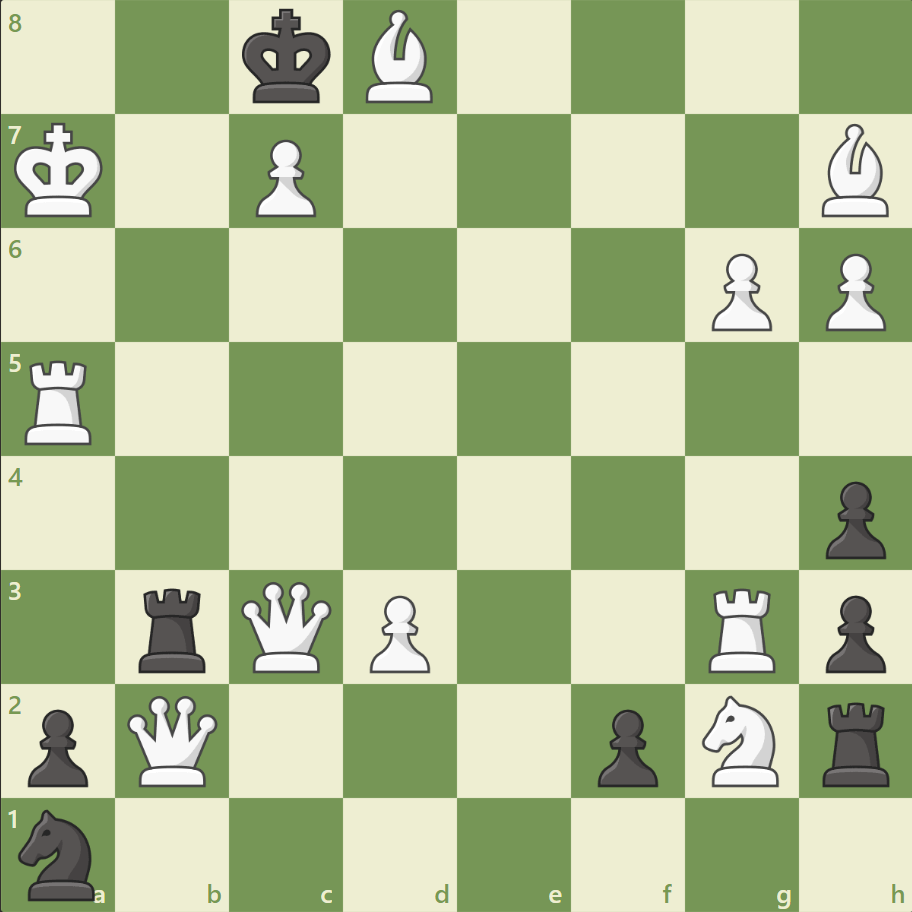B: (358, 6, 442, 109), (812, 120, 896, 222)
K: (11, 117, 111, 225)
N: (692, 688, 789, 791)
P: (247, 132, 322, 223), (701, 246, 776, 337), (815, 246, 889, 337), (361, 586, 435, 677)
Q: (237, 576, 336, 676), (124, 690, 223, 789)
R: (19, 352, 102, 449), (700, 579, 783, 676)
k: (238, 4, 338, 112)
n: (11, 802, 108, 904)
p: (20, 700, 95, 791), (815, 473, 889, 564), (815, 586, 889, 677), (588, 700, 662, 791)
r: (814, 693, 897, 790), (133, 579, 215, 676)
